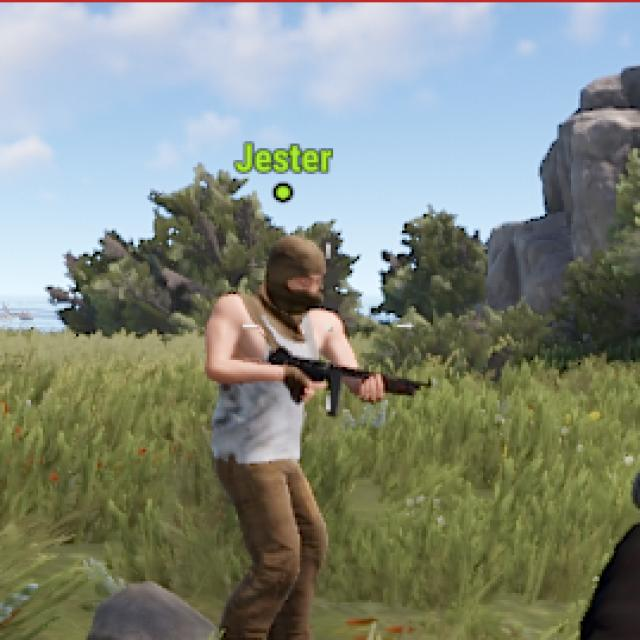Player: (203, 232, 366, 640)
